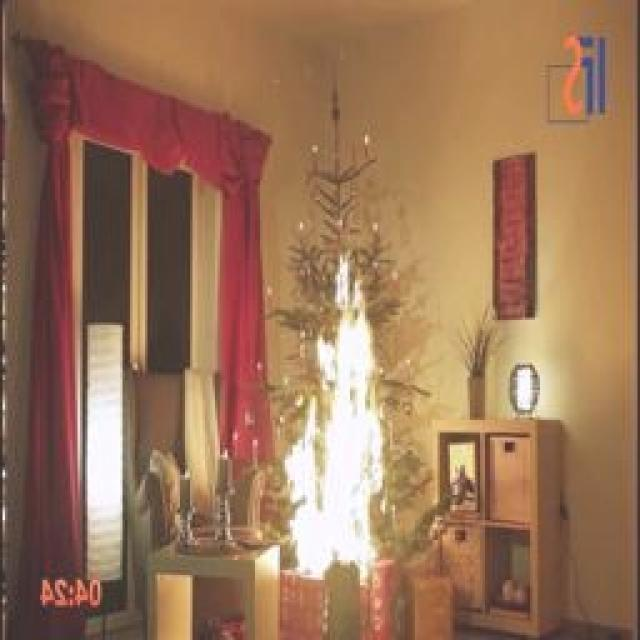fire: (254, 236, 414, 602)
